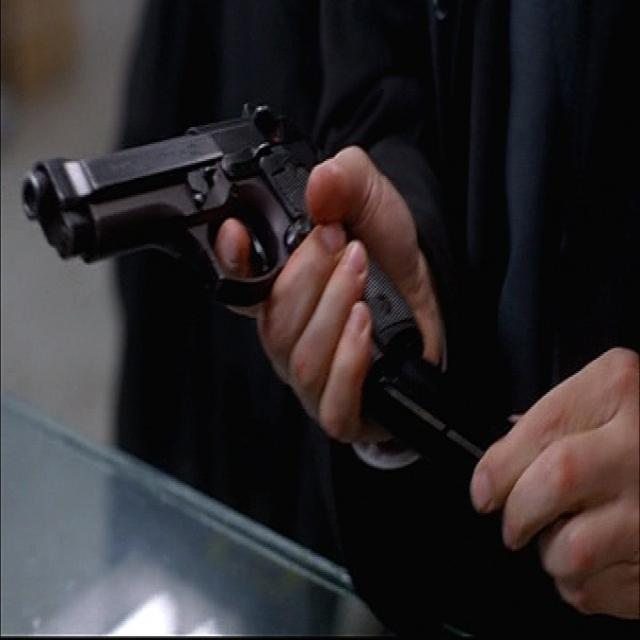weapons: (18, 87, 435, 409)
